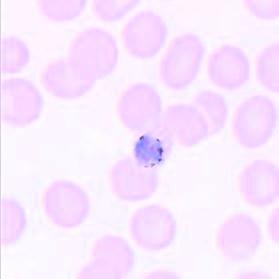Infected: (133, 134, 168, 169)
Uninfected: (68, 27, 118, 79), (232, 94, 277, 148), (159, 32, 203, 87), (43, 55, 96, 100), (109, 156, 159, 202), (43, 179, 89, 226), (118, 84, 163, 132), (122, 12, 167, 58), (206, 43, 251, 89), (215, 213, 261, 258), (131, 206, 177, 250), (0, 79, 43, 125), (164, 104, 209, 146), (91, 235, 132, 278), (239, 161, 279, 204), (191, 90, 228, 132)
